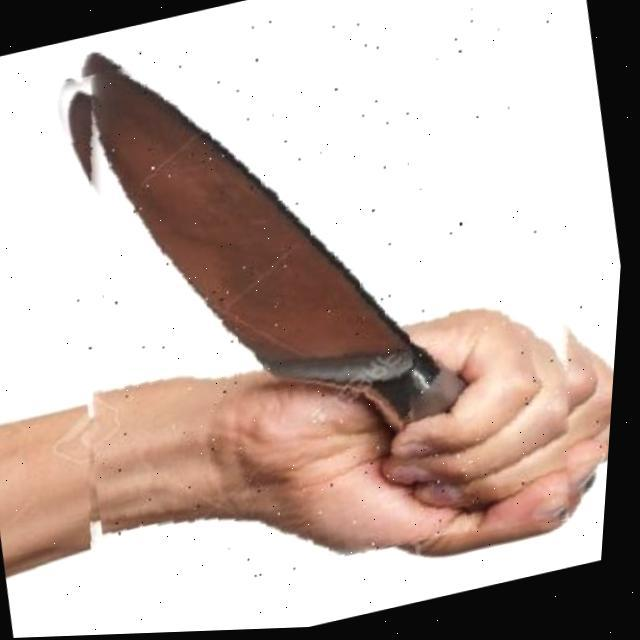knife: (14, 0, 640, 614)
